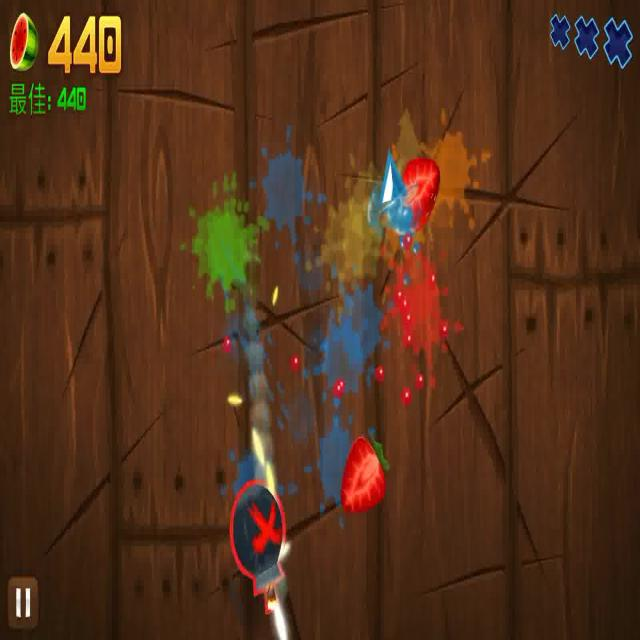bomb: (229, 476, 287, 624)
fruit: (339, 434, 386, 518), (391, 154, 441, 231)
